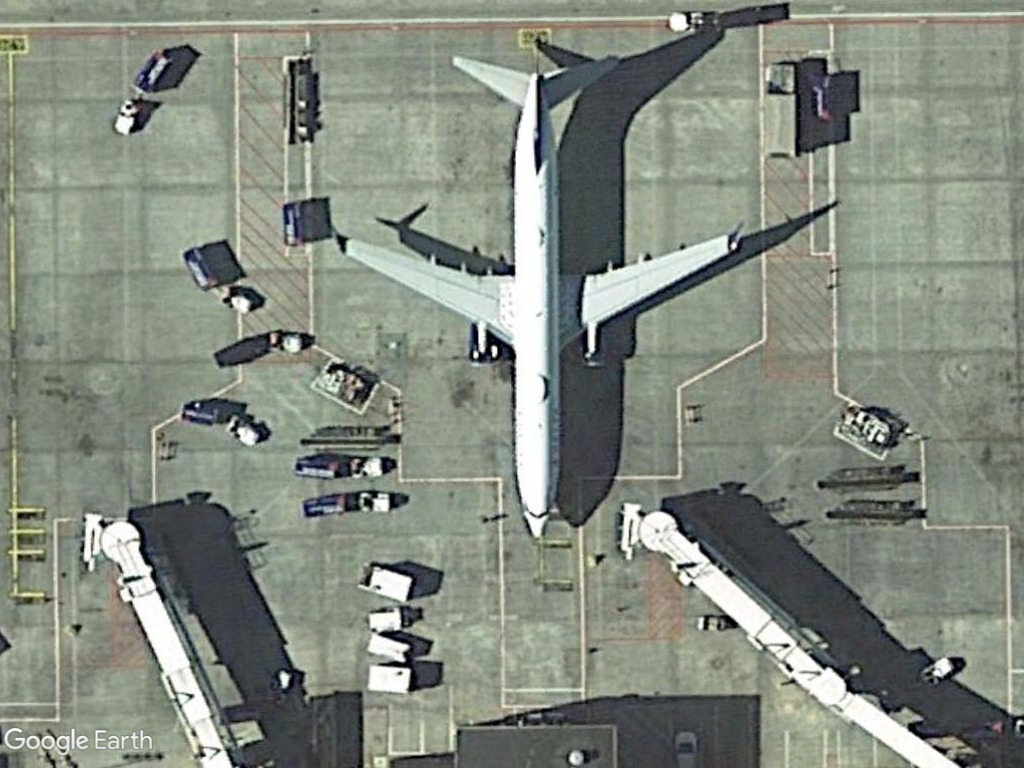airliner: (316, 44, 751, 548)
